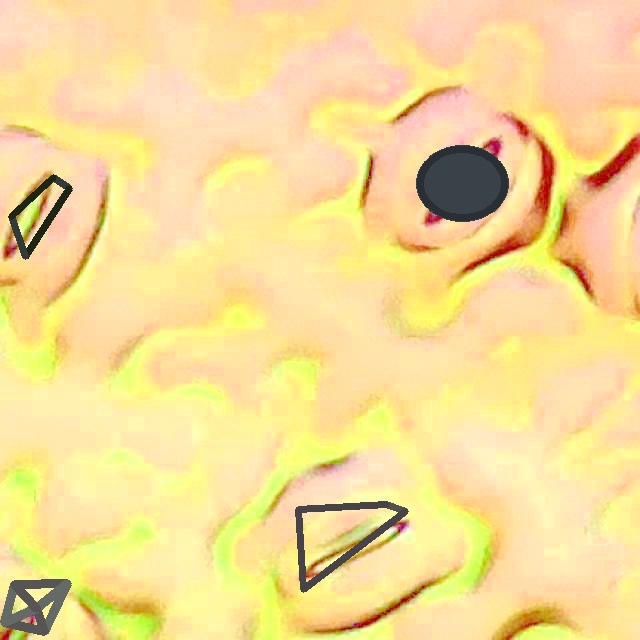open: (295, 501, 408, 592), (416, 144, 507, 221), (8, 174, 72, 259), (0, 580, 71, 635)
